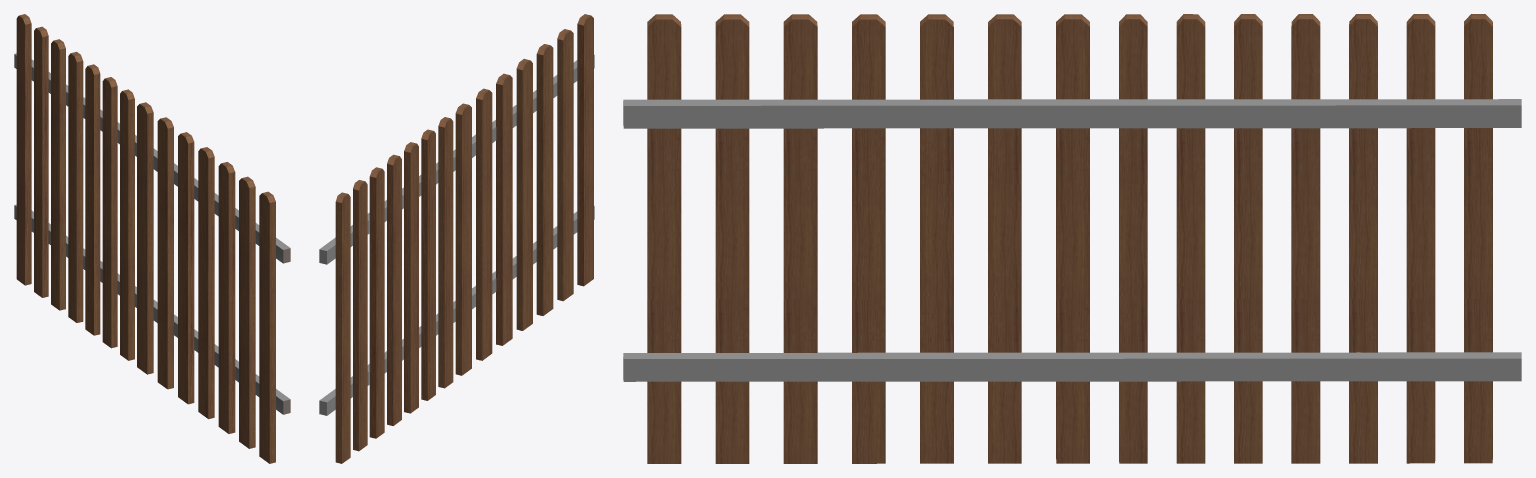
The model's file is BarrireBois01.fbx.
The picture shows the model from 3 angles, left to right: view 1: azimuth 30°, elevation 25°; view 2: azimuth 150°, elevation 25°; view 3: azimuth 270°, elevation 25°; orthographic projection. The views are drawn at different scales.
Parts seen in each view (by area): view 1: WoodBarrer; view 2: WoodBarrer; view 3: WoodBarrer.
Part boxes in pixels (x1,y1,x2,y2): WoodBarrer: (14, 14, 290, 463); WoodBarrer: (319, 14, 594, 463); WoodBarrer: (623, 14, 1521, 463).
Size of the model in its own units: 5.78 by 100 by 183.
